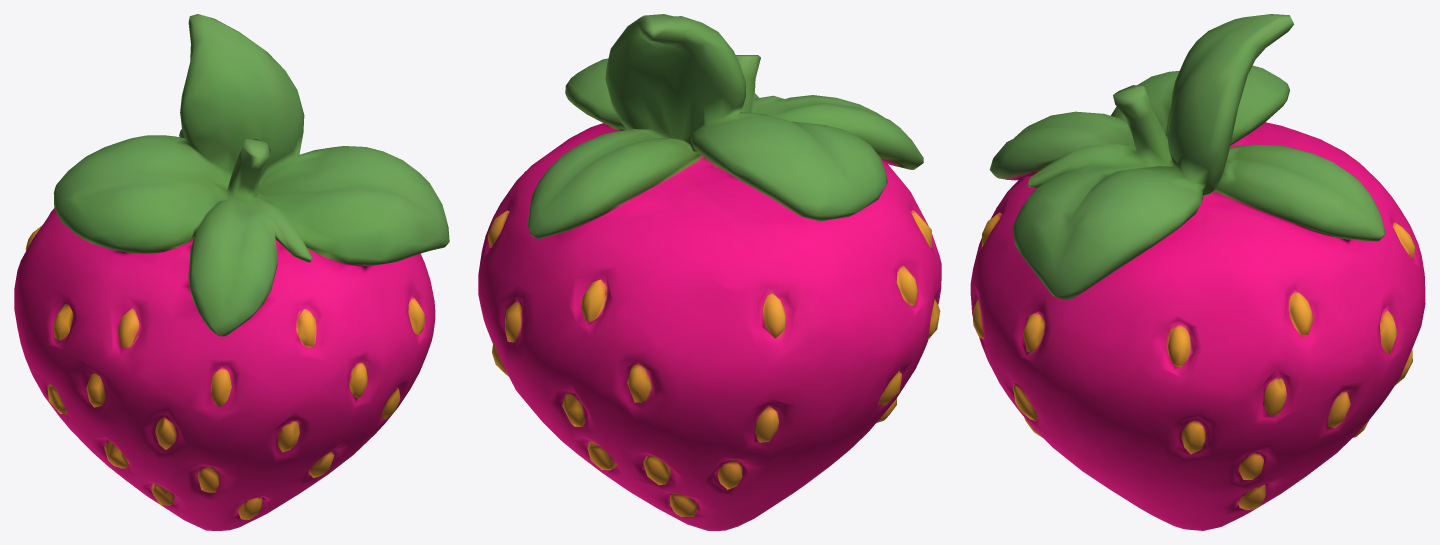
The model's file is strawberry-tripo-BDdmB20f.glb.
The picture shows the model from 3 angles, left to right: view 1: azimuth 30°, elevation 25°; view 2: azimuth 150°, elevation 25°; view 3: azimuth 270°, elevation 25°; orthographic projection. The views are drawn at different scales.
Visible parts, largest first — view 1: tripo_node_12672f92-fd3c-4502-98ca-dac913c42747; view 2: tripo_node_12672f92-fd3c-4502-98ca-dac913c42747; view 3: tripo_node_12672f92-fd3c-4502-98ca-dac913c42747.
Boxes of the visible parts, <box> form: tripo_node_12672f92-fd3c-4502-98ca-dac913c42747: <box>14,14,449,530</box>; tripo_node_12672f92-fd3c-4502-98ca-dac913c42747: <box>478,14,941,530</box>; tripo_node_12672f92-fd3c-4502-98ca-dac913c42747: <box>970,14,1425,530</box>.
Size of the model in its own units: 0.777 by 0.9806 by 0.7773.
1 material, 1 textured.
